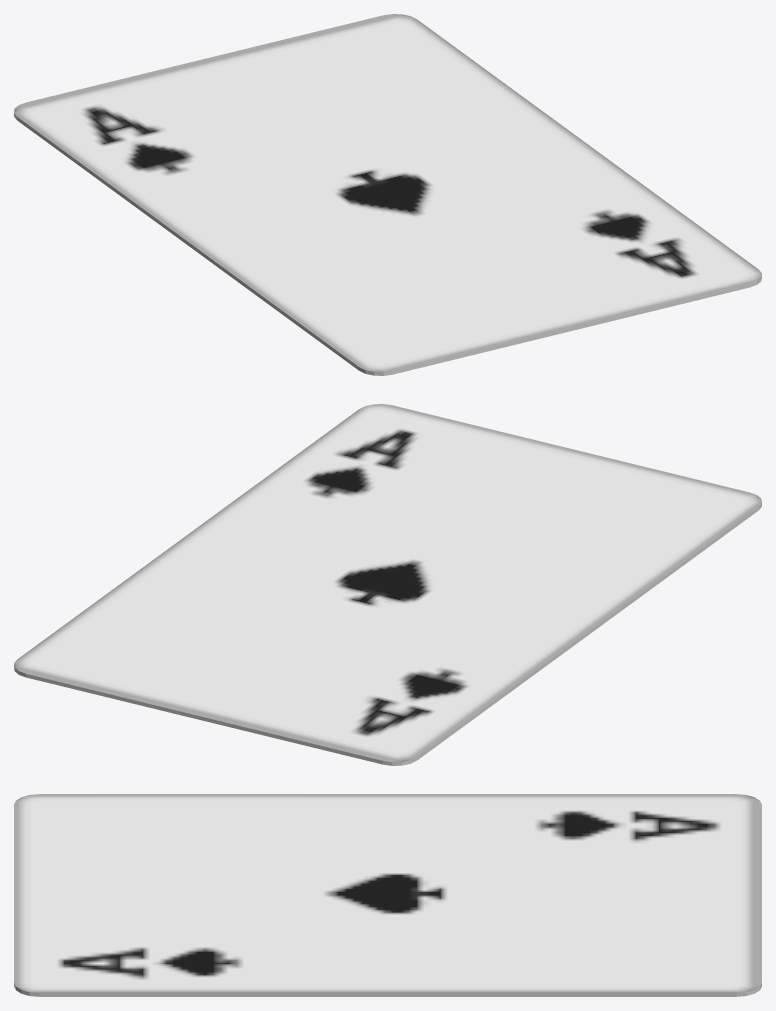
File: bakushincard.glb
3 renders of one model, top to bottom at view 1: azimuth 30°, elevation 25°; view 2: azimuth 150°, elevation 25°; view 3: azimuth 270°, elevation 25°, orthographic.
Parts seen in each view (by area): view 1: Cube; view 2: Cube; view 3: Cube.
Boxes of the visible parts, x1=… form: Cube: x1=14, y1=14, x2=761, y2=375; Cube: x1=14, y1=404, x2=761, y2=765; Cube: x1=14, y1=794, x2=761, y2=996.
Size of the model in its own units: 0.056 by 0.0005 by 0.089.
Materials: 3 (2 with a texture image).
